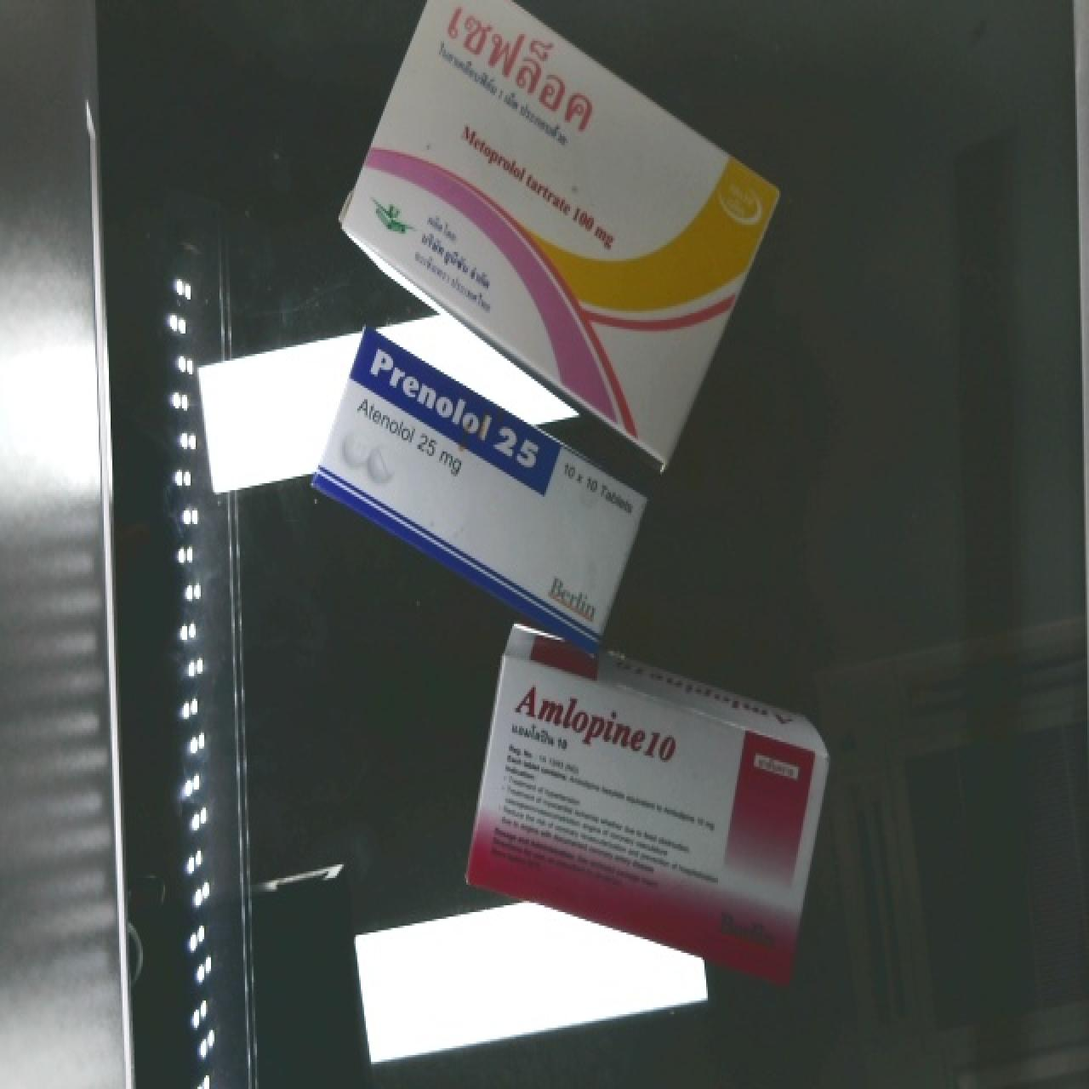medicine_label_obb: (339, 323, 569, 492), (405, 0, 627, 163), (485, 655, 697, 784)
